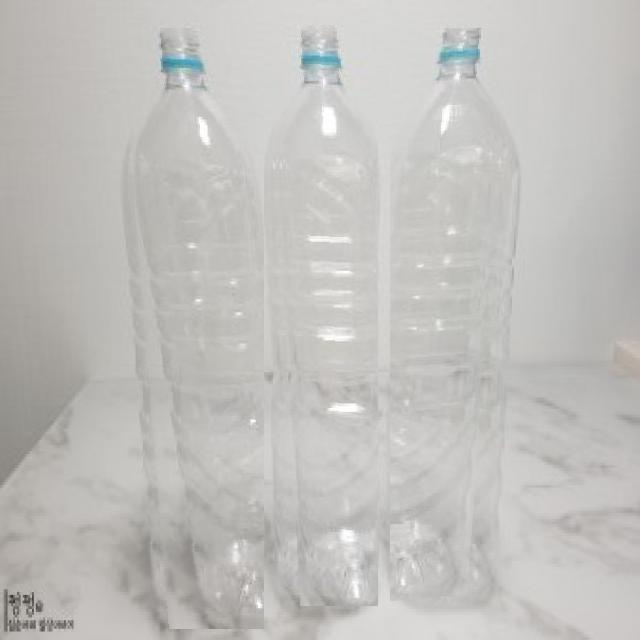plastic bottle: (120, 28, 264, 629), (390, 28, 506, 604), (271, 26, 378, 606)
